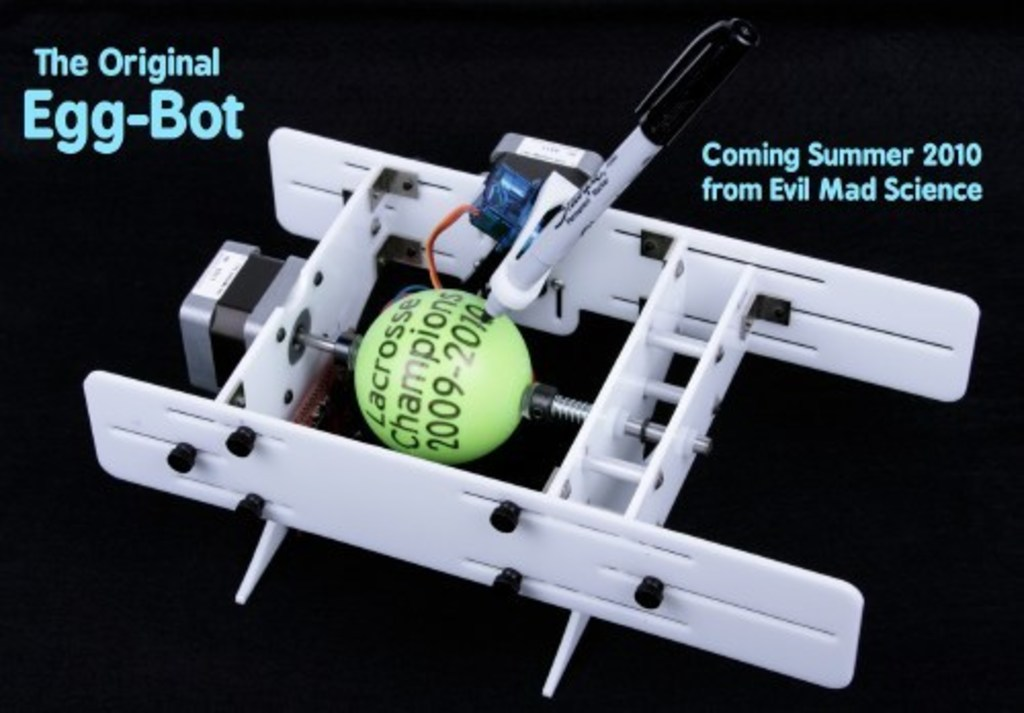Ball: (356, 283, 539, 459)
